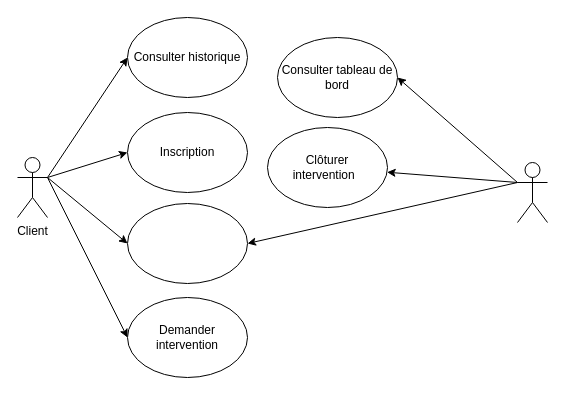
Image size: 573x395. Some labels were removed from this diagram. The centre of each missing label's shape, as x and y in pixels:
"Connexion" belongs at pixel 187 243.
"Employé" belongs at pixel 532 192.
